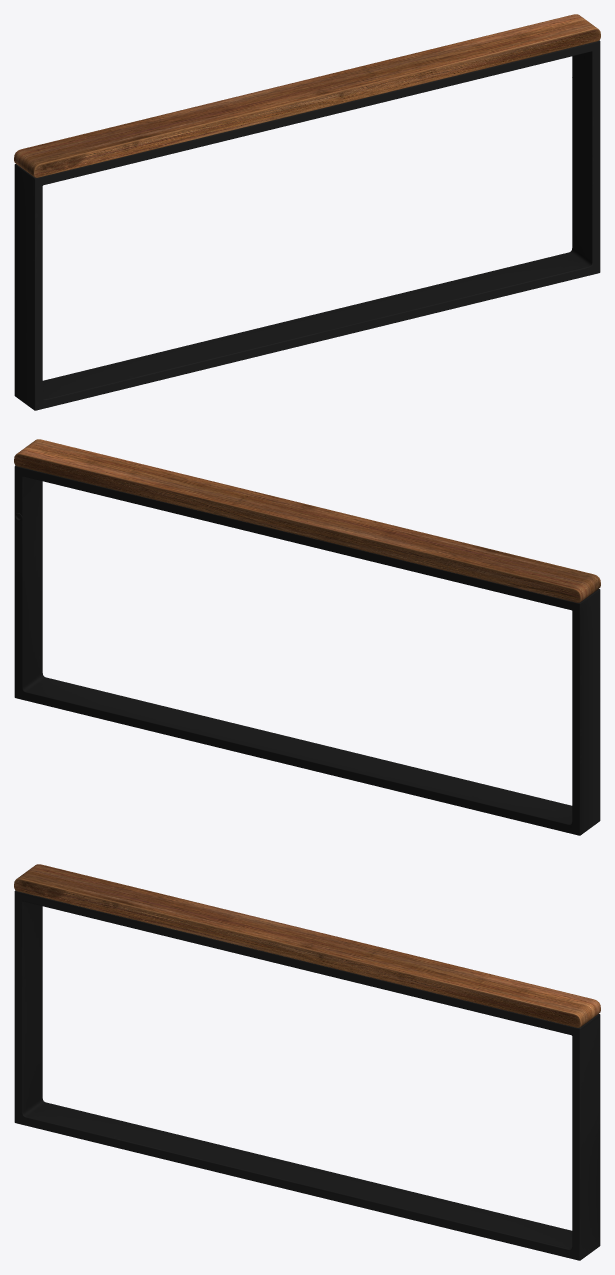
File: MeridaDaybed01_Handle.glb
3 renders of one model, top to bottom at view 1: azimuth 30°, elevation 25°; view 2: azimuth 150°, elevation 25°; view 3: azimuth 330°, elevation 25°, orthographic.
Parts seen in each view (by area): view 1: merida-daybed-body-handle.001, merida-daybed-armrest-wood.001; view 2: merida-daybed-body-handle.001, merida-daybed-armrest-wood.001; view 3: merida-daybed-body-handle.001, merida-daybed-armrest-wood.001.
Part boxes in pixels (left/top/right/bottom): merida-daybed-body-handle.001: left=14, top=40, right=600, bottom=410; merida-daybed-armrest-wood.001: left=14, top=14, right=600, bottom=177; merida-daybed-body-handle.001: left=14, top=465, right=600, bottom=835; merida-daybed-armrest-wood.001: left=14, top=439, right=600, bottom=602; merida-daybed-body-handle.001: left=14, top=890, right=600, bottom=1260; merida-daybed-armrest-wood.001: left=14, top=864, right=600, bottom=1027.
Bounding box in the file's own units: 0.6803 × 0.2815 × 0.0428.
Materials: 2 (2 with a texture image).
